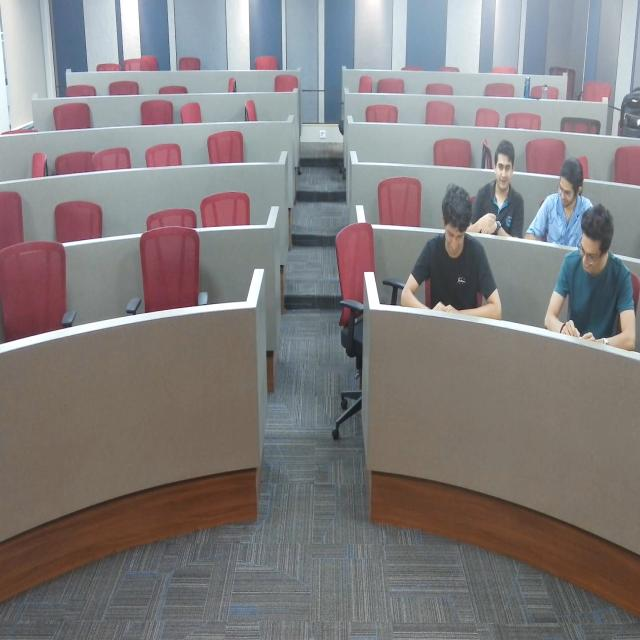cheating: (562, 200, 636, 349), (541, 164, 599, 258)
non-cheating: (412, 193, 502, 330)
